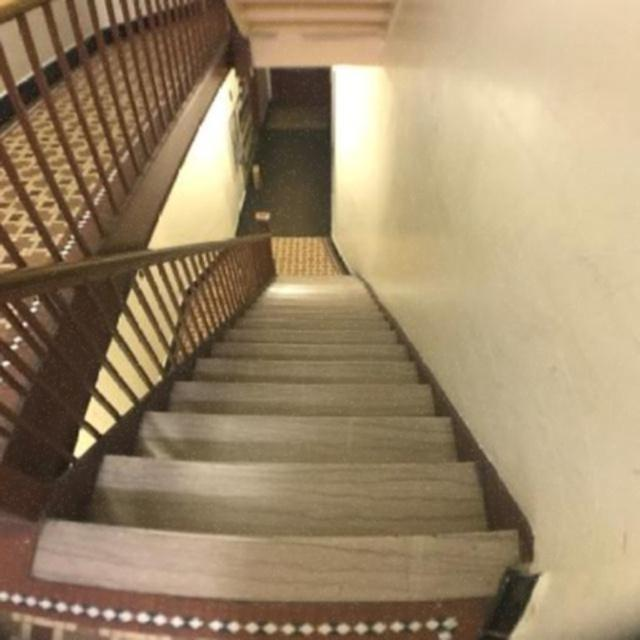stair: (22, 180, 540, 606)
